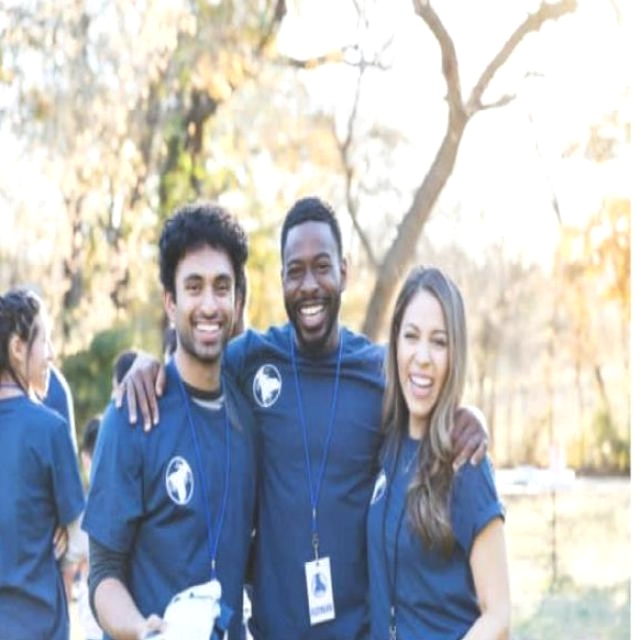ID_card: (291, 356, 348, 613), (177, 411, 233, 635), (375, 469, 425, 640)
